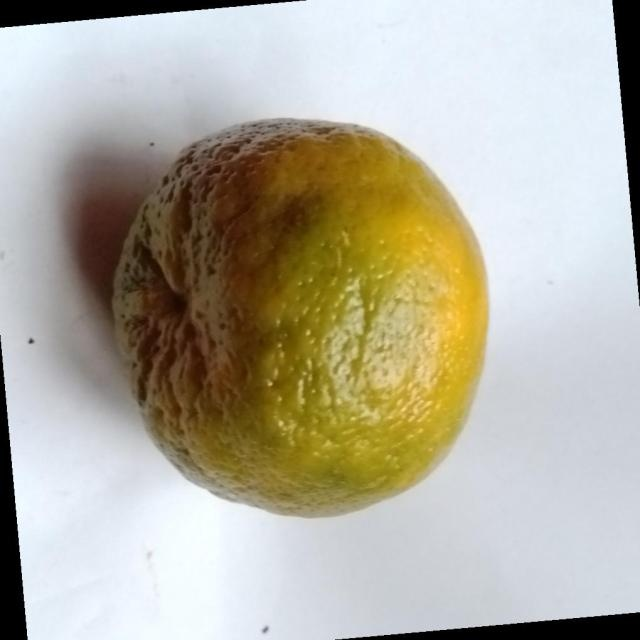agrume: (109, 115, 490, 519)
